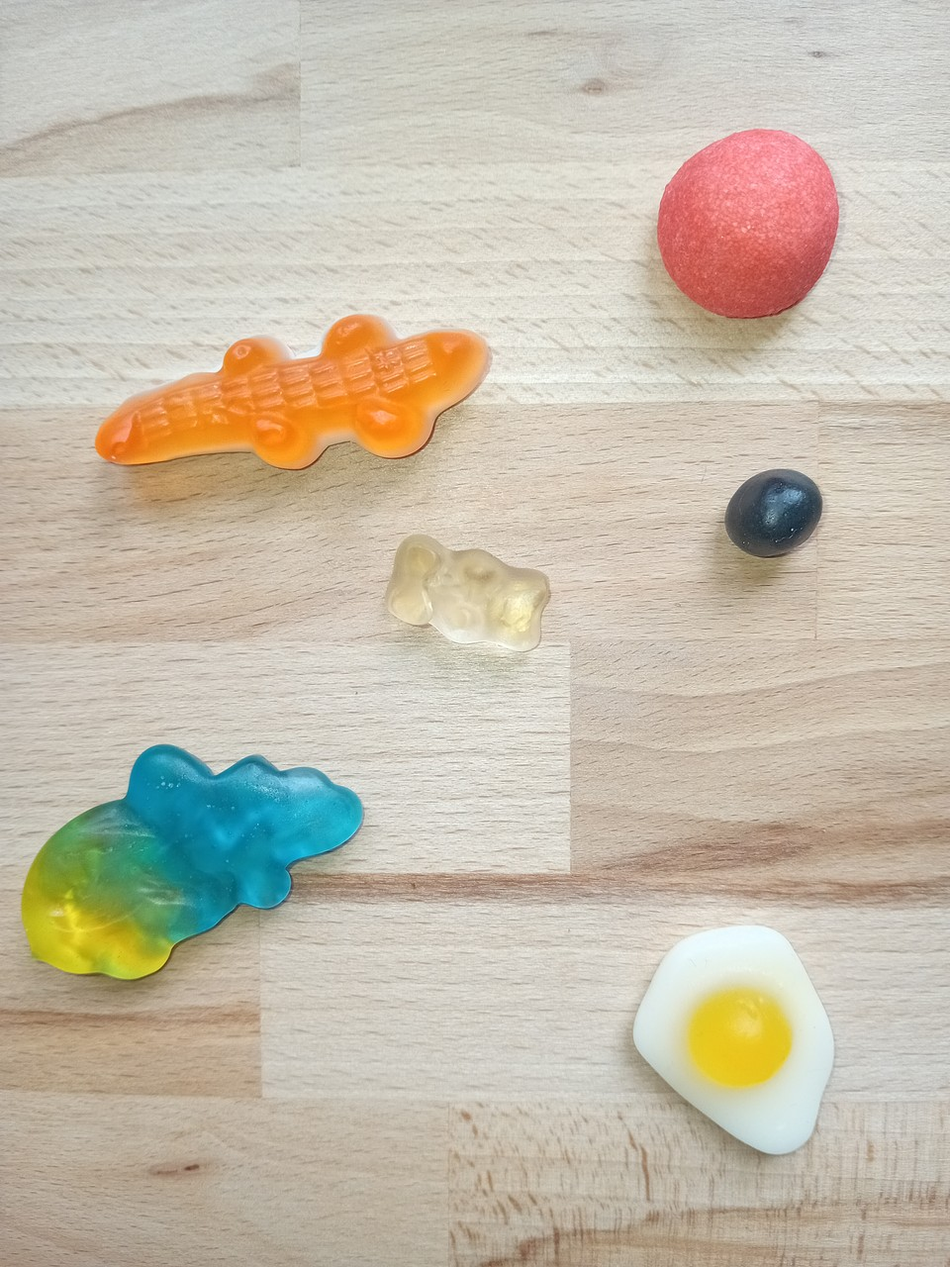crocodile_orange: (85, 308, 506, 484)
dragibus_noir: (721, 466, 826, 565)
oeuf_oeuf: (623, 914, 846, 1161)
ourson_blanc: (378, 529, 554, 657)
schtroumpf_bleu-jaune: (18, 734, 369, 988)
tagada_fraise: (651, 124, 844, 324)
